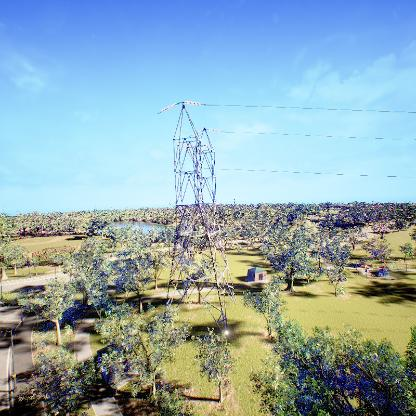tower: (176, 100, 216, 339)
